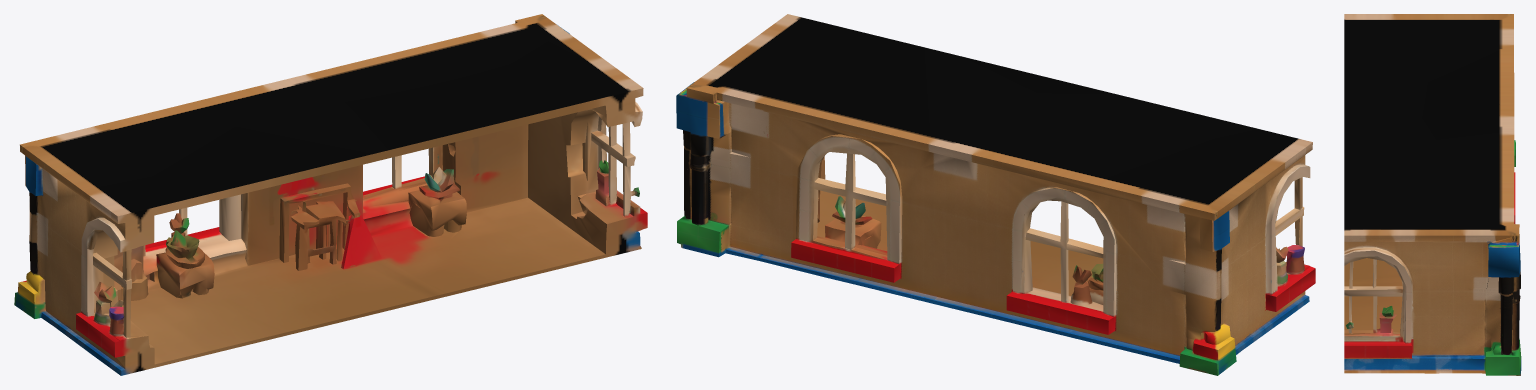
The model's file is 6-upper-walls-back.fbx.
The picture shows the model from 3 angles, left to right: view 1: azimuth 30°, elevation 25°; view 2: azimuth 150°, elevation 25°; view 3: azimuth 270°, elevation 25°; orthographic projection. The views are drawn at different scales.
Parts seen in each view (by area): view 1: upper-walls-back; view 2: upper-walls-back; view 3: upper-walls-back.
Boxes of the visible parts, left/top/right/bottom form: upper-walls-back: left=14, top=14, right=647, bottom=375; upper-walls-back: left=676, top=14, right=1315, bottom=375; upper-walls-back: left=1344, top=14, right=1521, bottom=375.
Bounding box in the file's own units: 8128 × 2306 × 2670.
1 material, 1 textured.
